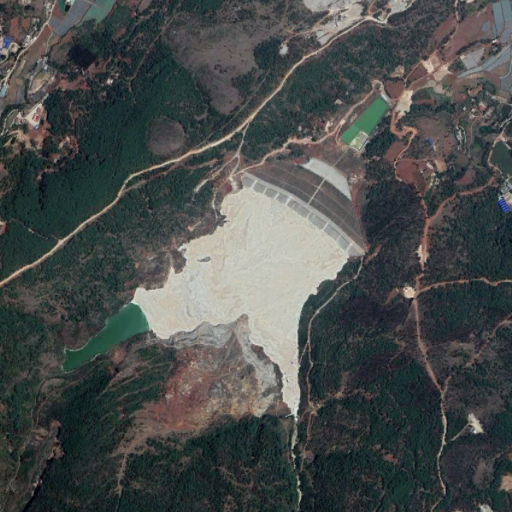tp: (62, 145, 369, 422)
